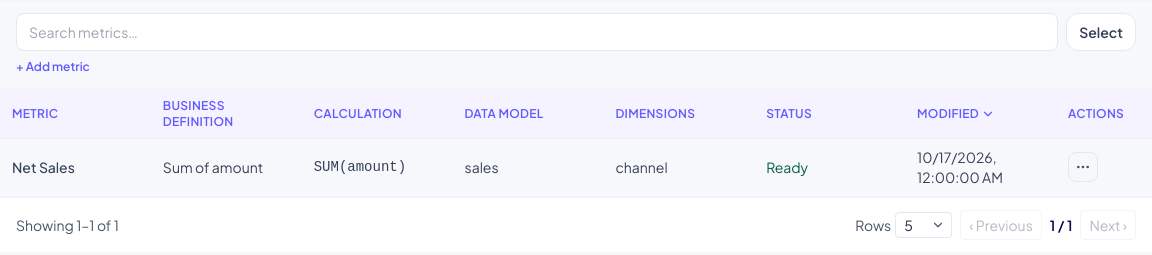
SEM-2A matrix › SEM-2A-032 page select-all
The image size is (1152, 255).
Check: the text "Net Sales" is shown, box [0, 138, 151, 196]
Click the button with aria-label "Select rows".
click(1101, 32)  # box [1066, 13, 1136, 51]
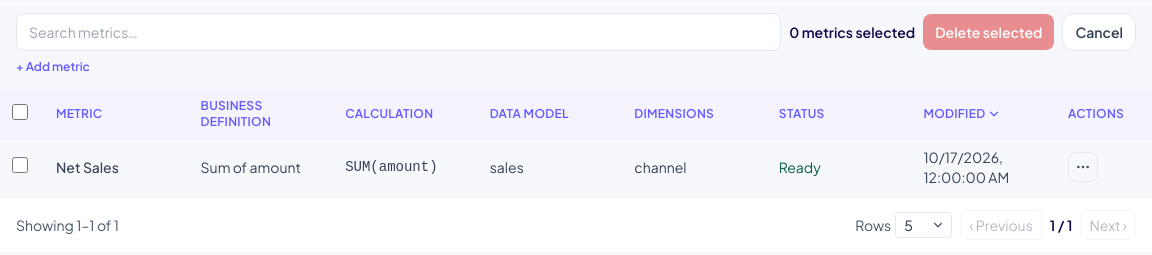
Click the checkbox named "Select all rows".
click(20, 112)  # box [12, 104, 28, 120]
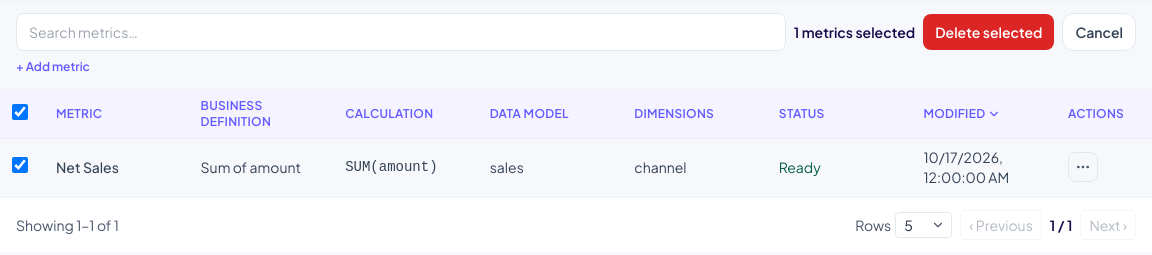
Check: the checkbox named "Select Net Sales" is checked, box [12, 157, 28, 173]
